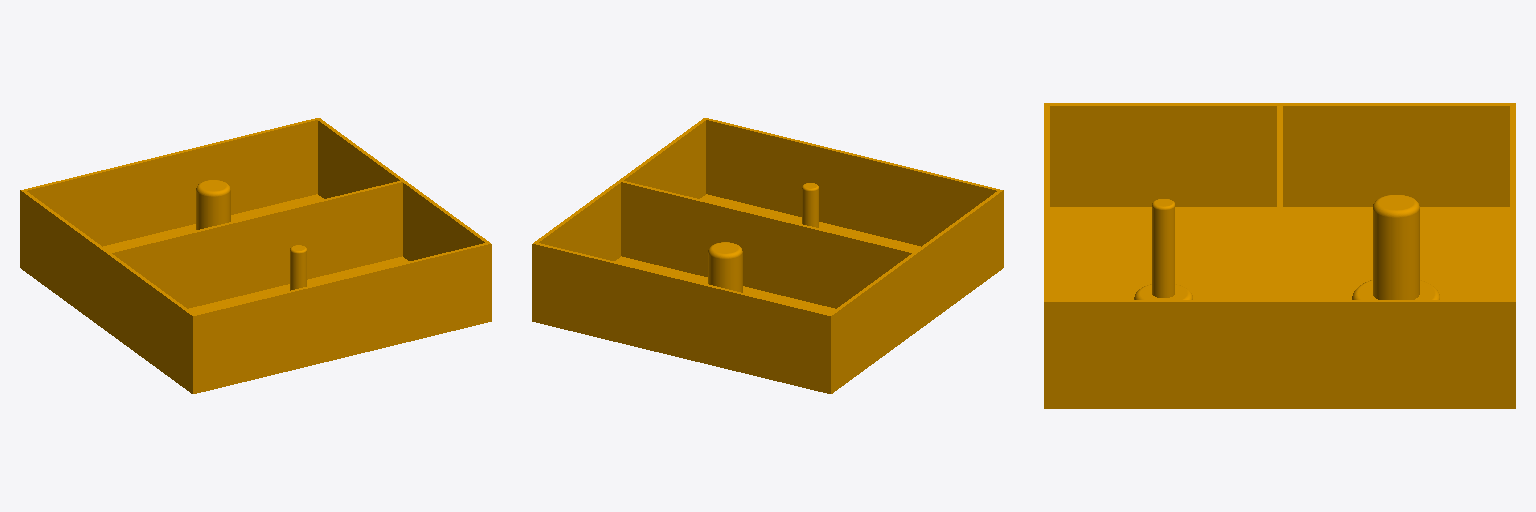
URDF robot description (cylindrical_assembly_shelf):
<?xml version="1.0"?>
<robot name="cylindrical_assembly_shelf">
    <link name="cylindrical_assembly_shelf_origin">
        <visual>
            <geometry>
                <mesh filename="package://process_visualiser/resources/meshes_resized/cylindrical_wp_assembly_shelf.stl"
                      scale="1 1 1"/>
            </geometry>
        </visual>

        <inertial>
            <origin xyz="0 0 0" rpy="0 0 0"/>
            <mass value="1"/>
            <inertia
                    ixx="1.0" ixy="0.0" ixz="0.0"
                    iyy="1.0" iyz="0.0"
                    izz="1.0"/>
        </inertial>

        <collision>
            <geometry>
                <mesh filename="package://process_visualiser/resources/meshes_resized/cylindrical_wp_assembly_shelf.stl"
                      scale="1 1 1"/>
            </geometry>
            <surface>
                <contact>
                    <ode>
                        <min_depth>0.01</min_depth>
                        <max_vel>0.0</max_vel>
                    </ode>
                </contact>
            </surface>
        </collision>

    </link>
    <link name="world"/>

    <joint name="fixed" type="fixed">
        <parent link="world"/>
        <child link="cylindrical_assembly_shelf_origin"/>
    </joint>

    <gazebo reference="cylindrical_assembly_shelf_origin">
        <material>Gazebo/Grey</material>
    </gazebo>

</robot>

--- What the picture shows (computed from the rendered views, not written in the file) ---
The picture shows the robot from 3 angles, left to right: view 1: azimuth 30°, elevation 25°; view 2: azimuth 150°, elevation 25°; view 3: azimuth 270°, elevation 25°; orthographic projection.
Model cylindrical_assembly_shelf with 2 links and 1 joints (1 fixed), rooted at world, posed every joint at zero.
Links seen in each view (by area): view 1: cylindrical_assembly_shelf_origin; view 2: cylindrical_assembly_shelf_origin; view 3: cylindrical_assembly_shelf_origin.
Boxes of the visible links, x1=… form: cylindrical_assembly_shelf_origin: x1=20, y1=118, x2=491, y2=393; cylindrical_assembly_shelf_origin: x1=532, y1=118, x2=1003, y2=393; cylindrical_assembly_shelf_origin: x1=1044, y1=103, x2=1515, y2=408.
Size in the robot's own frame: 0.8 by 0.8 by 0.2 metres.
1 mesh visuals loaded from 1 distinct referenced files (1 binary STL).